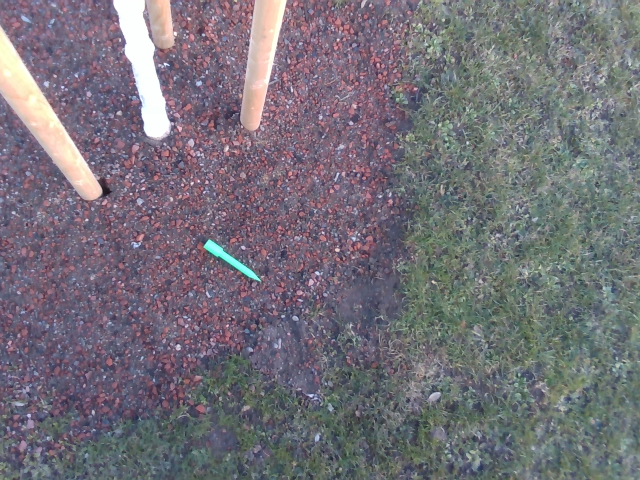Probe: (199, 233, 263, 286)
